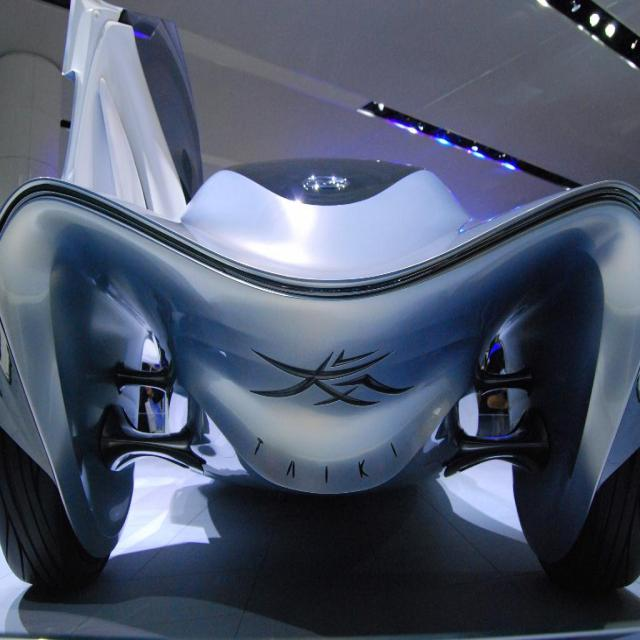car: (0, 33, 631, 554)
